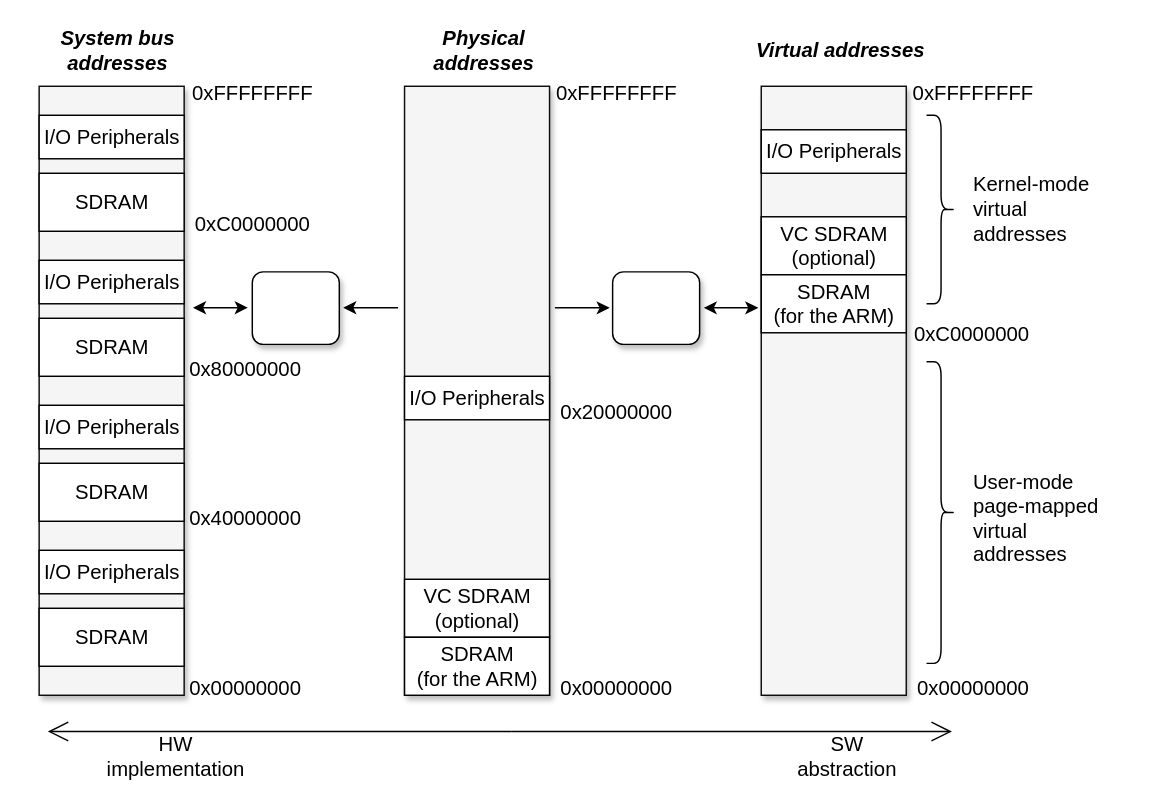
Image size: 1156x803. Some labels were removed from this diagram. The shapes that lost their labels are listed below. From the top down, each one's centre as x and y in pixels, then its label:
At [296,310]: "VC/ARM MMU".
At [656,310]: "ARM MMU".
